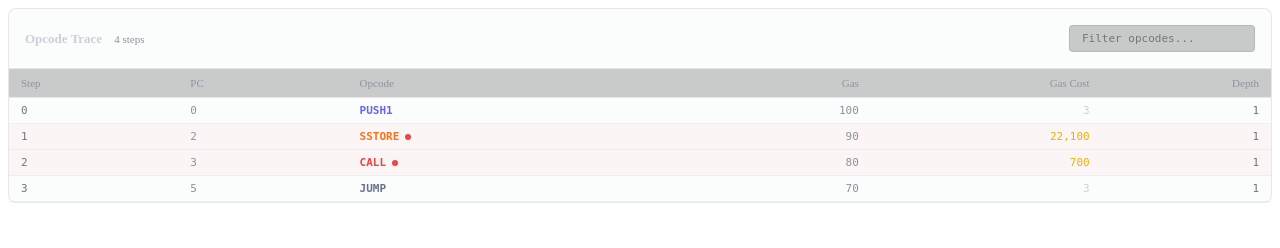
OpcodeViewer › shows 'no data' placeholder when expanded row has no stack/memory/storage
Click the text "PUSH1". click: (376, 110)
box: [360,104,393,117]
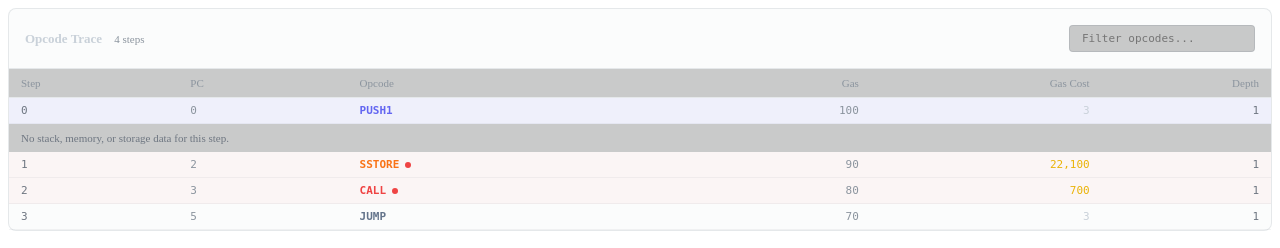
Expected: the text "No stack, memory, or storage data for this step." is shown, [9,124,1271,152]
